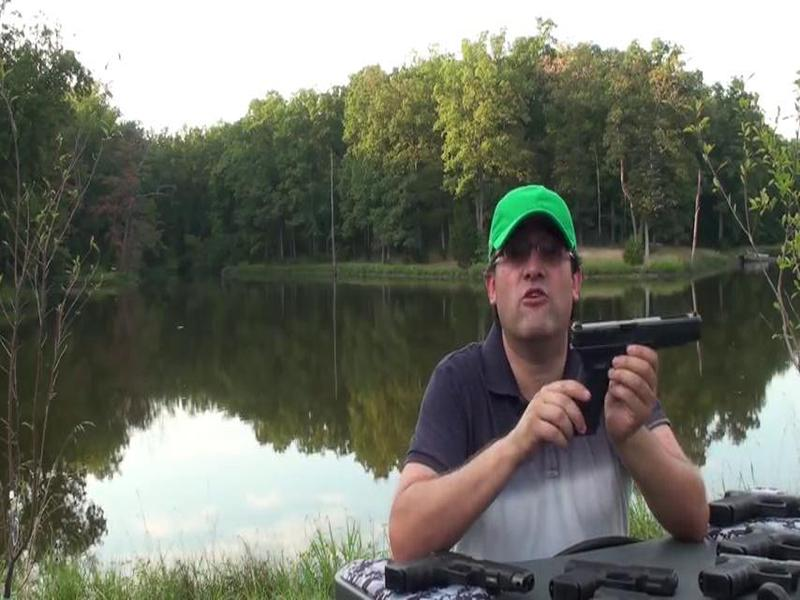Pistola: (558, 298, 706, 435), (367, 542, 537, 596), (547, 549, 675, 600)
